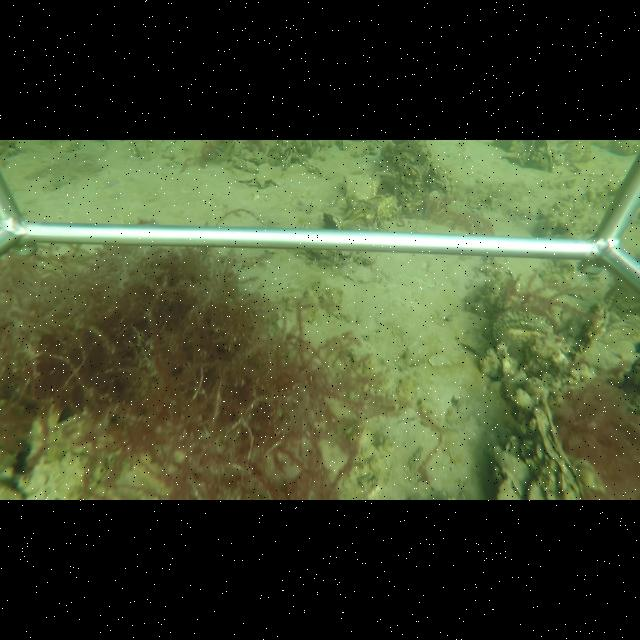Oyster-Closed: (516, 389, 588, 498), (570, 301, 611, 364), (324, 211, 343, 230)
